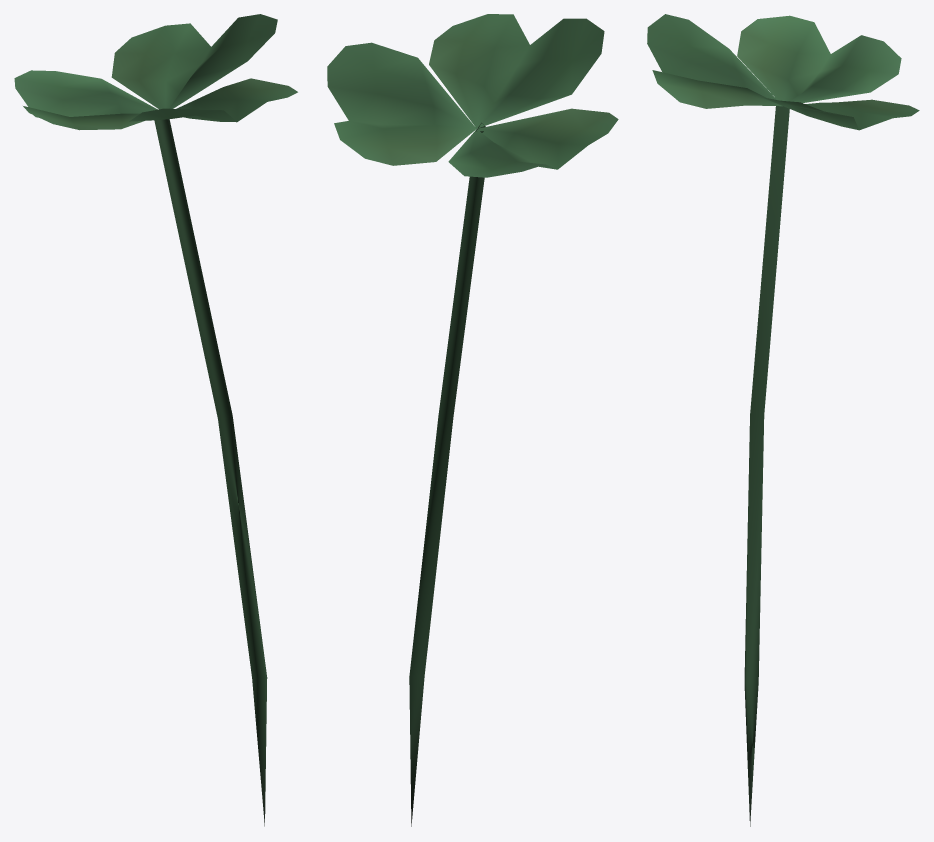
The model's file is plants-leafy-plants-clover_v6.glb.
The picture shows the model from 3 angles, left to right: view 1: azimuth 30°, elevation 25°; view 2: azimuth 150°, elevation 25°; view 3: azimuth 270°, elevation 25°; orthographic projection. The views are drawn at different scales.
Parts seen in each view (by area): view 1: Clover_v6; view 2: Clover_v6; view 3: Clover_v6.
Boxes of the visible parts, x1,y1,x2,y2 form: Clover_v6: [14, 14, 297, 826]; Clover_v6: [327, 14, 618, 826]; Clover_v6: [647, 14, 919, 826].
Bounding box in the file's own units: 0.0507 × 0.15 × 0.0497.
